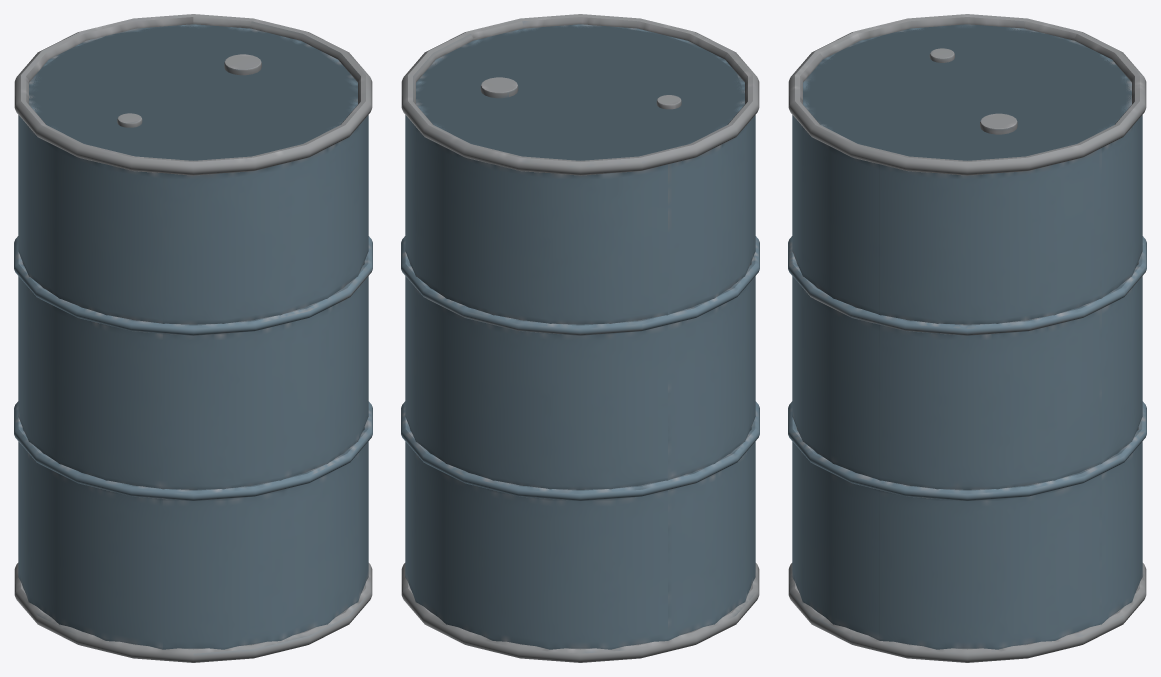
The model's file is barrel.fbx.
3 renders of one model, left to right at view 1: azimuth 30°, elevation 25°; view 2: azimuth 150°, elevation 25°; view 3: azimuth 270°, elevation 25°, orthographic.
Parts seen in each view (by area): view 1: barrel; view 2: barrel; view 3: barrel.
Part boxes in pixels (<box>): barrel: <box>14,14,372,662</box>; barrel: <box>401,14,759,662</box>; barrel: <box>788,14,1146,662</box>.
Size of the model in its own units: 0.58 by 0.8796 by 0.5712.
